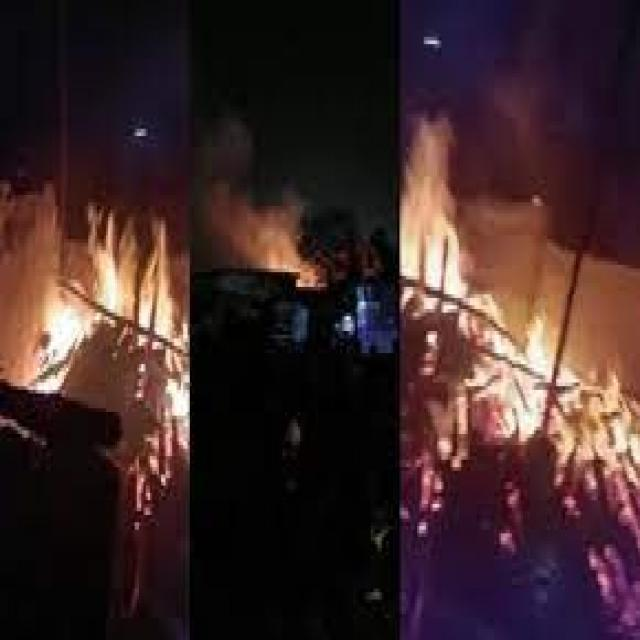fire: (402, 129, 638, 577), (26, 206, 192, 515)
smoke: (194, 125, 322, 291)
